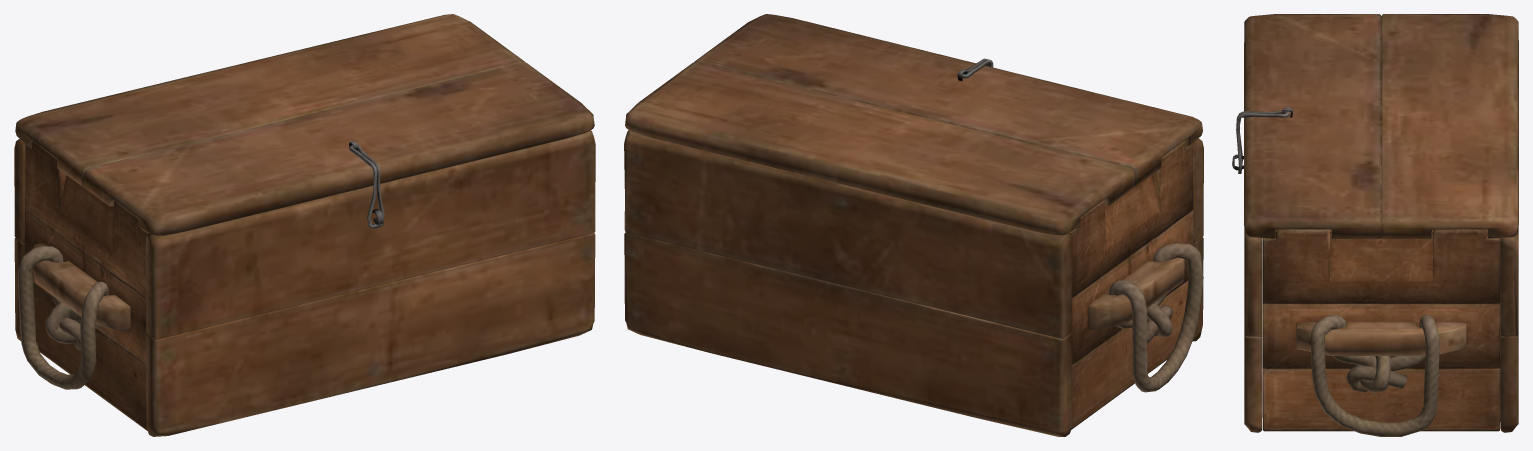
The model's file is wooden_crate.glb.
3 renders of one model, left to right at view 1: azimuth 30°, elevation 25°; view 2: azimuth 150°, elevation 25°; view 3: azimuth 270°, elevation 25°, orthographic. The views are drawn at different scales.
Visible parts, largest first — view 1: wooden_crate_01_lid; view 2: wooden_crate_01_lid; view 3: wooden_crate_01_lid.
Boxes of the visible parts, x1,y1,x2,y2 form: wooden_crate_01_lid: (14,14,595,436); wooden_crate_01_lid: (624,14,1203,436); wooden_crate_01_lid: (1232,14,1518,436).
Bounding box in the file's own units: 0.8253 × 0.3495 × 0.4084.
Materials: 1 (1 with a texture image).
